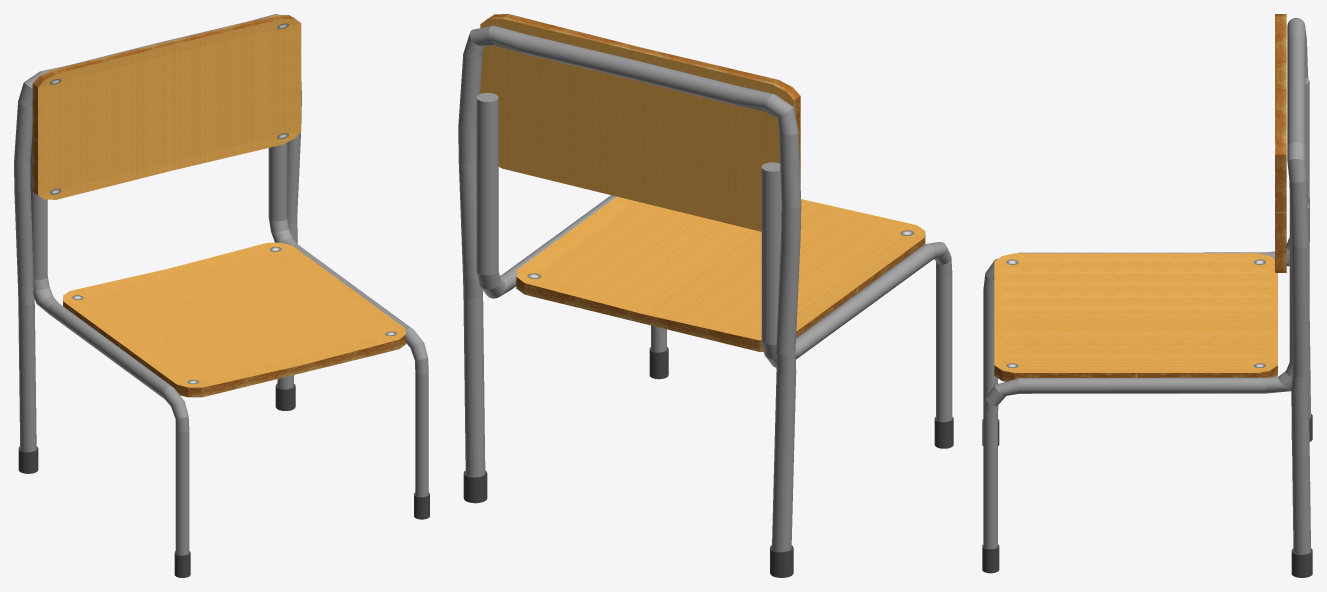
Rendered from chair.fbx.
3 views of the same model, side by side, from view 1: azimuth 30°, elevation 25°; view 2: azimuth 150°, elevation 25°; view 3: azimuth 270°, elevation 25° (orthographic). The views are drawn at different scales.
Parts seen in each view (by area): view 1: chir, chir.001, leg.001, leg; view 2: chir, chir.001, leg, leg.001; view 3: chir.001, leg.001, leg, chir.
Part boxes in pixels (left/top/right/bottom): chir: left=32, top=14, right=301, bottom=199; chir.001: left=63, top=242, right=405, bottom=397; leg.001: left=30, top=133, right=429, bottom=577; leg: left=14, top=14, right=301, bottom=473; chir: left=480, top=14, right=800, bottom=231; chir.001: left=516, top=196, right=925, bottom=351; leg: left=458, top=25, right=801, bottom=577; leg.001: left=476, top=93, right=953, bottom=448; chir.001: left=994, top=253, right=1277, bottom=381; leg.001: left=982, top=78, right=1309, bottom=573; leg: left=1287, top=18, right=1312, bottom=577; chir: left=1275, top=14, right=1286, bottom=272.
Size of the model in its own units: 32.06 by 43.11 by 29.95.
Materials: 4 (2 with a texture image).
